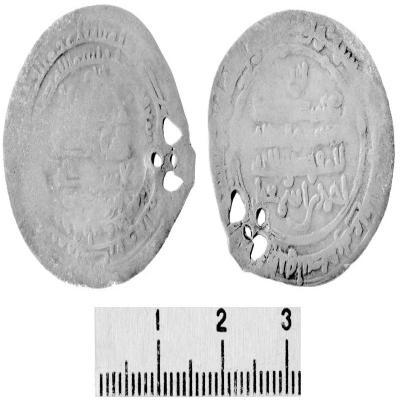numismatics: (3, 6, 195, 288), (209, 10, 394, 285)
